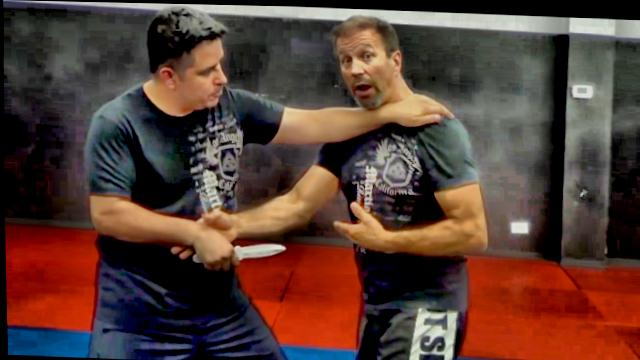knife: (190, 235, 289, 272)
